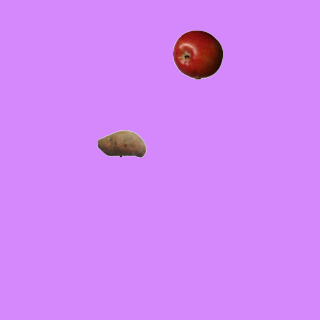Apple Braeburn: (172, 29, 222, 79)
Potato Sweet: (96, 118, 146, 168)
